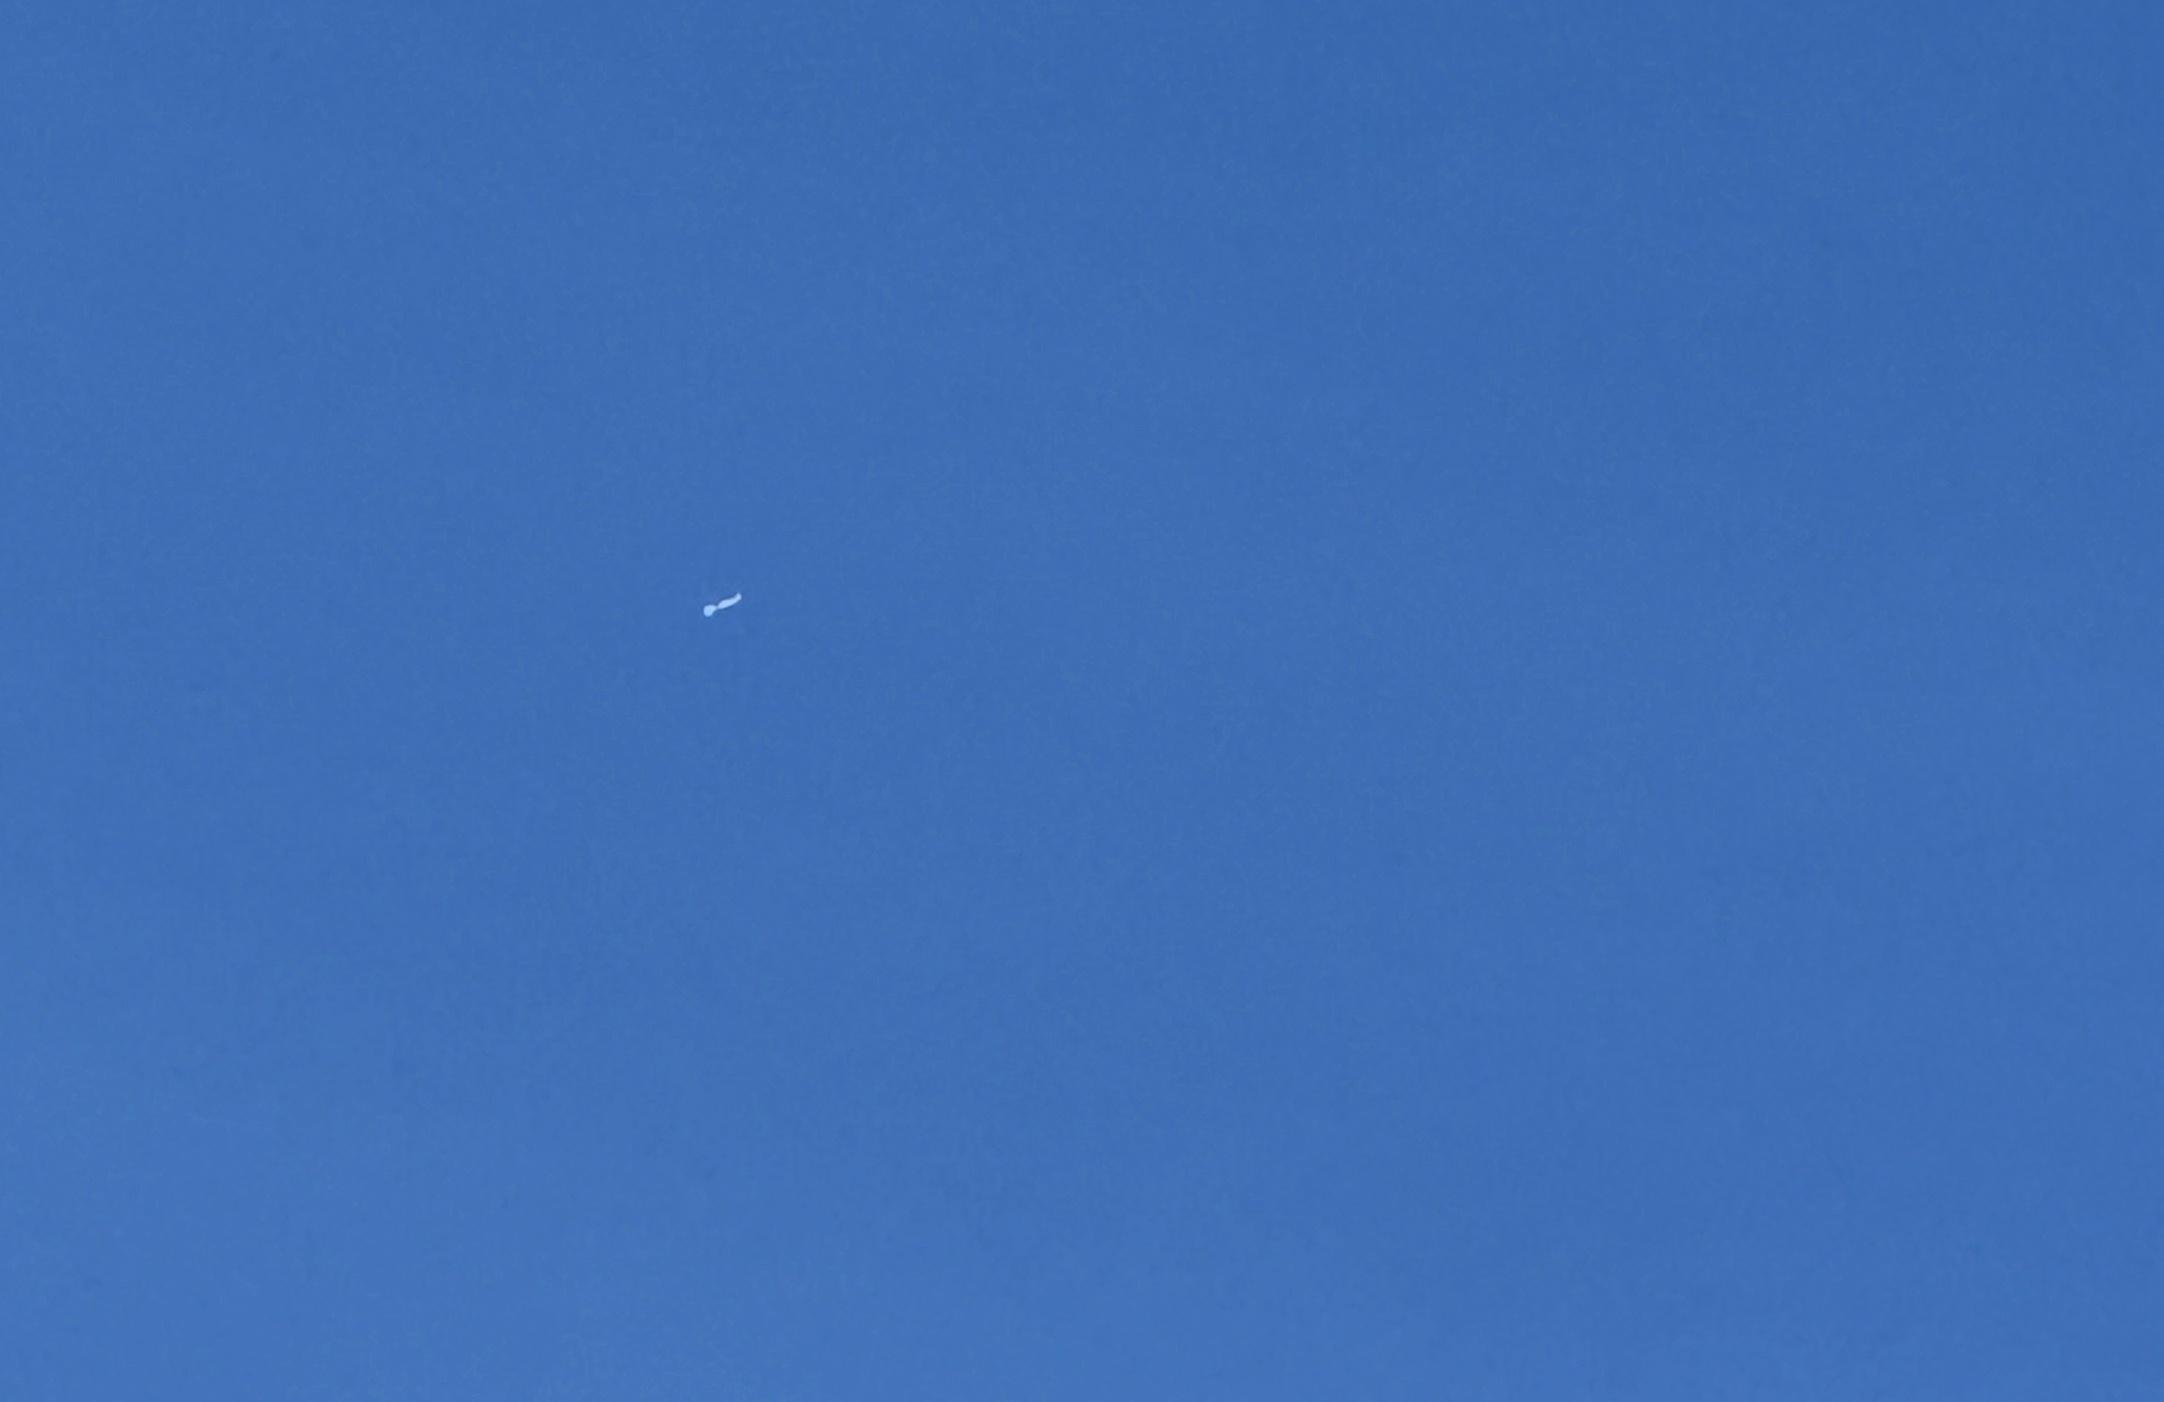Plane: (688, 569, 809, 645)
